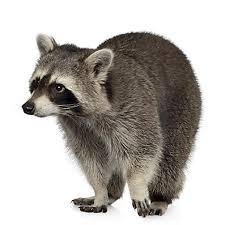raccoon: (8, 20, 213, 225)
